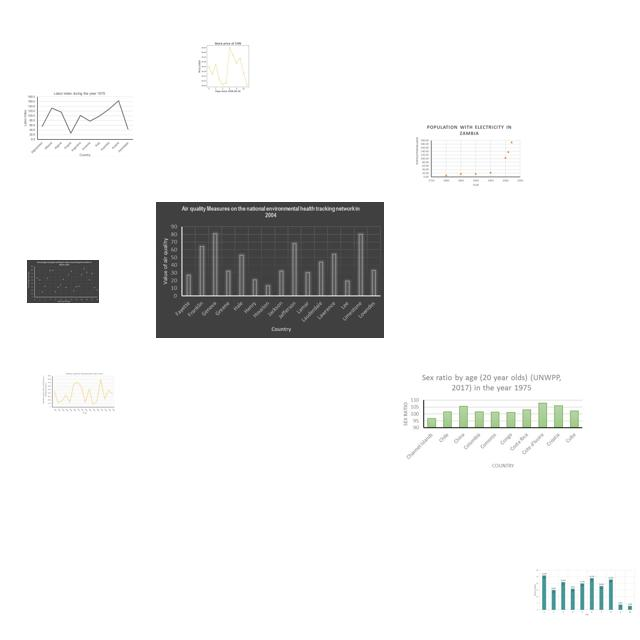Graph: (156, 202, 384, 338), (395, 369, 585, 470), (413, 122, 526, 189), (24, 90, 135, 157), (533, 569, 636, 616), (191, 39, 263, 93), (42, 372, 116, 415), (27, 260, 99, 303)
